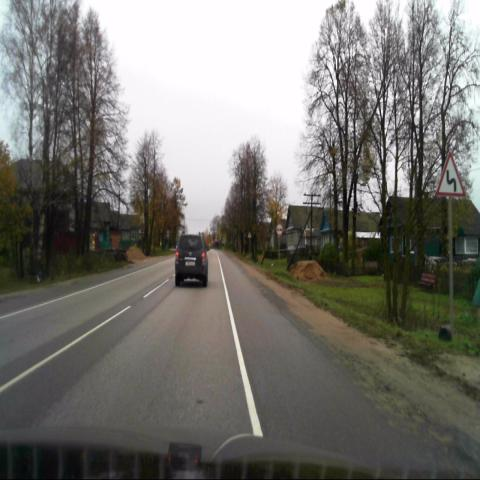1_12_2: (437, 153, 464, 196)
